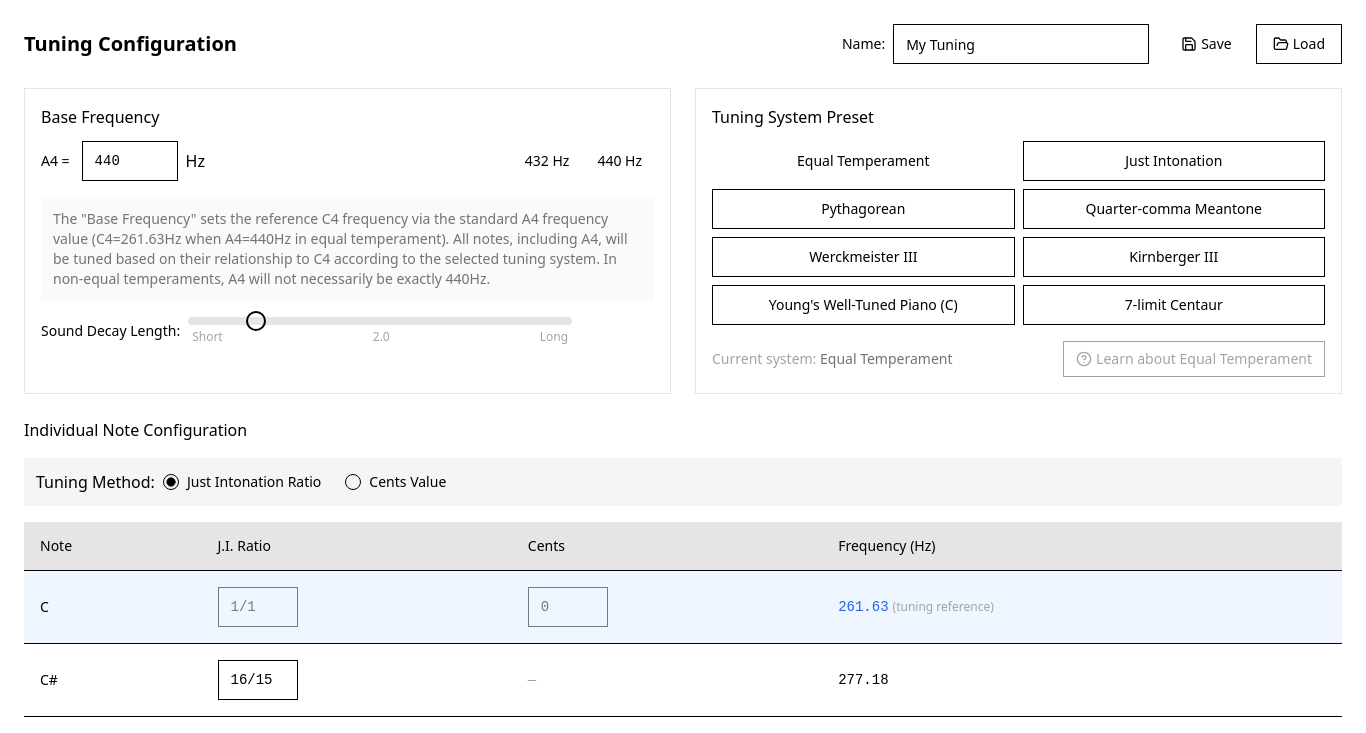
ConfigPanel › toggles the load dialog when load button is clicked
Expected: the text "Load Configuration" is not shown
# Click the load button - using FolderOpen icon
Click the button "Load": (1299, 44) top-left (1256, 24), bottom-right (1342, 64)
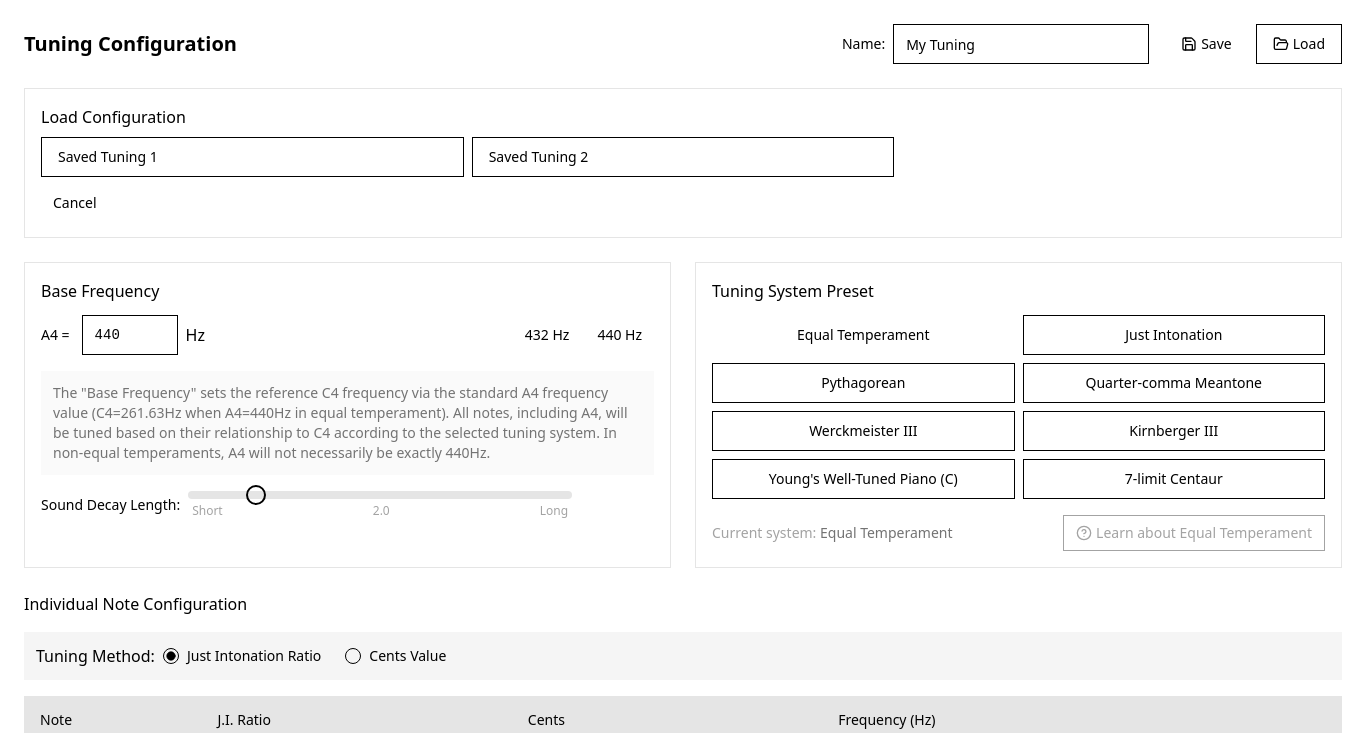
Expected: the heading "Load Configuration" is shown, top-left (41, 106), bottom-right (186, 128)
Expected: the button "Saved Tuning 1" is shown, top-left (41, 137), bottom-right (464, 177)
Expected: the button "Saved Tuning 2" is shown, top-left (472, 137), bottom-right (894, 177)
# Find and click the cancel button
Click the button "Cancel": (75, 203) top-left (41, 185), bottom-right (109, 221)
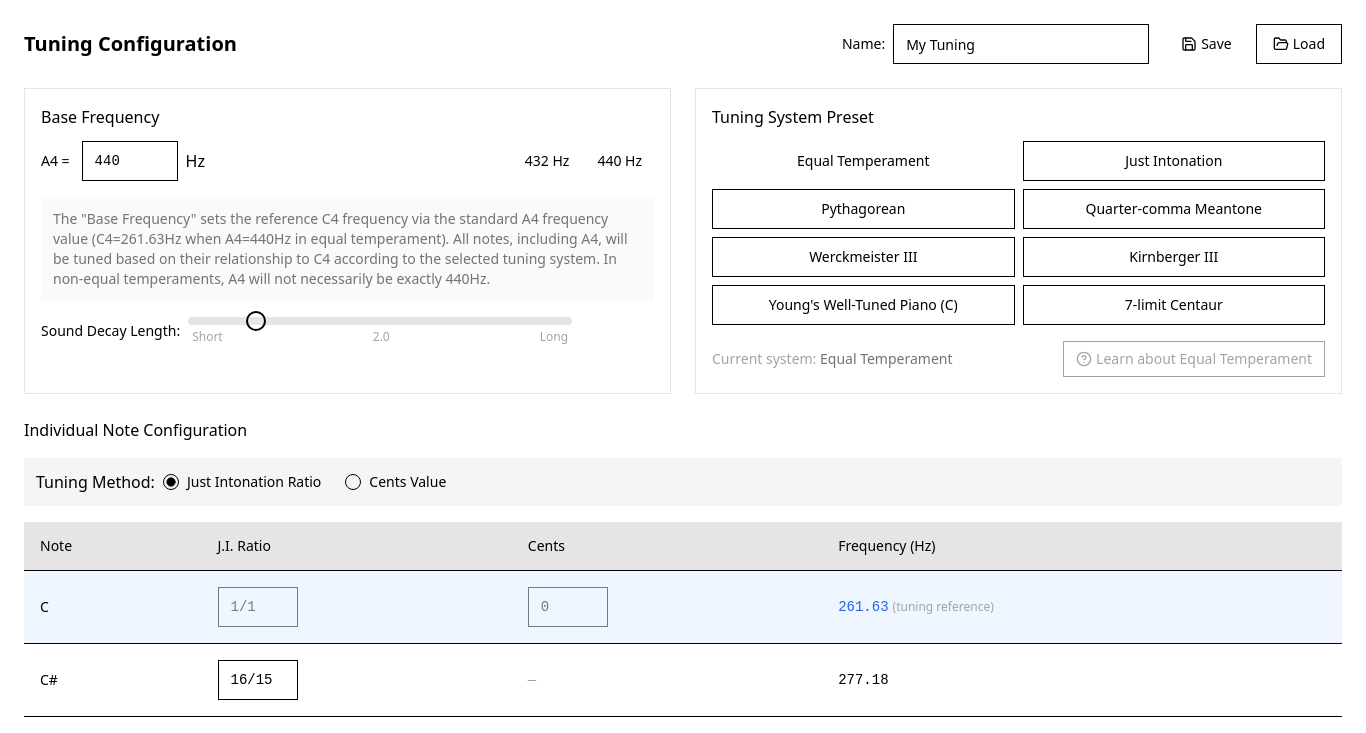
Expected: the heading "Load Configuration" is gone
